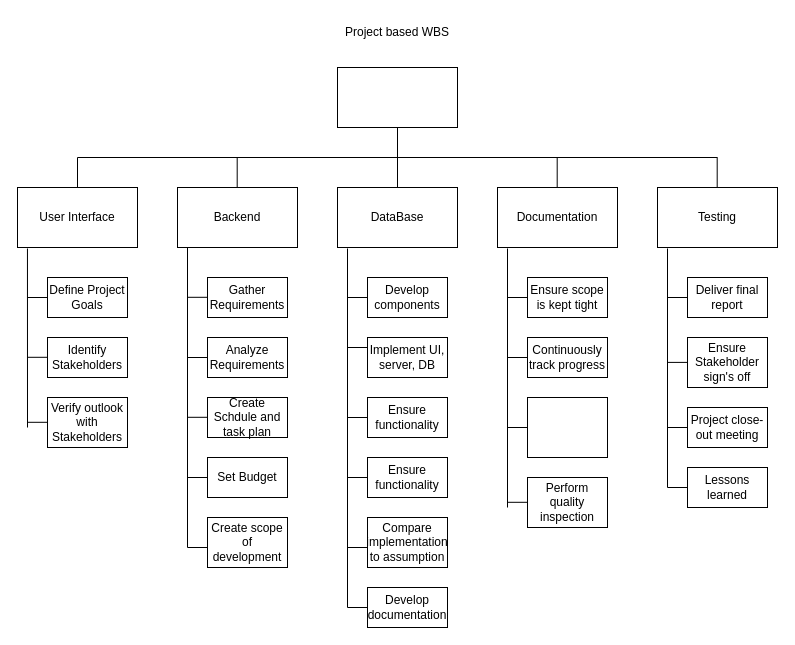
Image size: 795x645. Some labels were removed from this diagram. Each missing label, with the box of its shape:
Auto Repair Shop: (336, 66, 458, 128)
Implement change management process: (526, 396, 608, 458)
